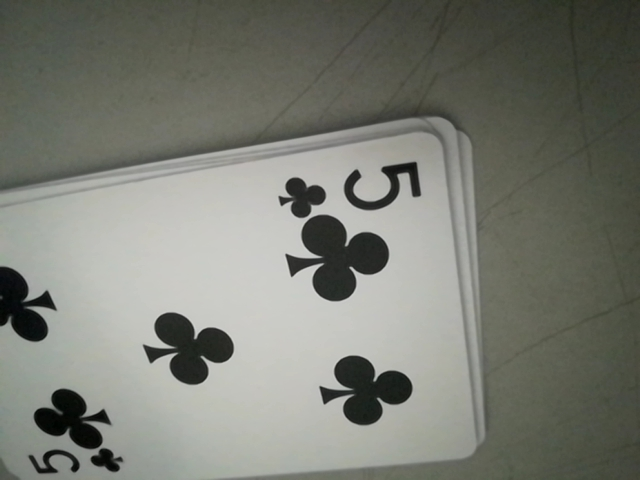mh 5: (271, 149, 428, 215), (19, 443, 129, 480)
